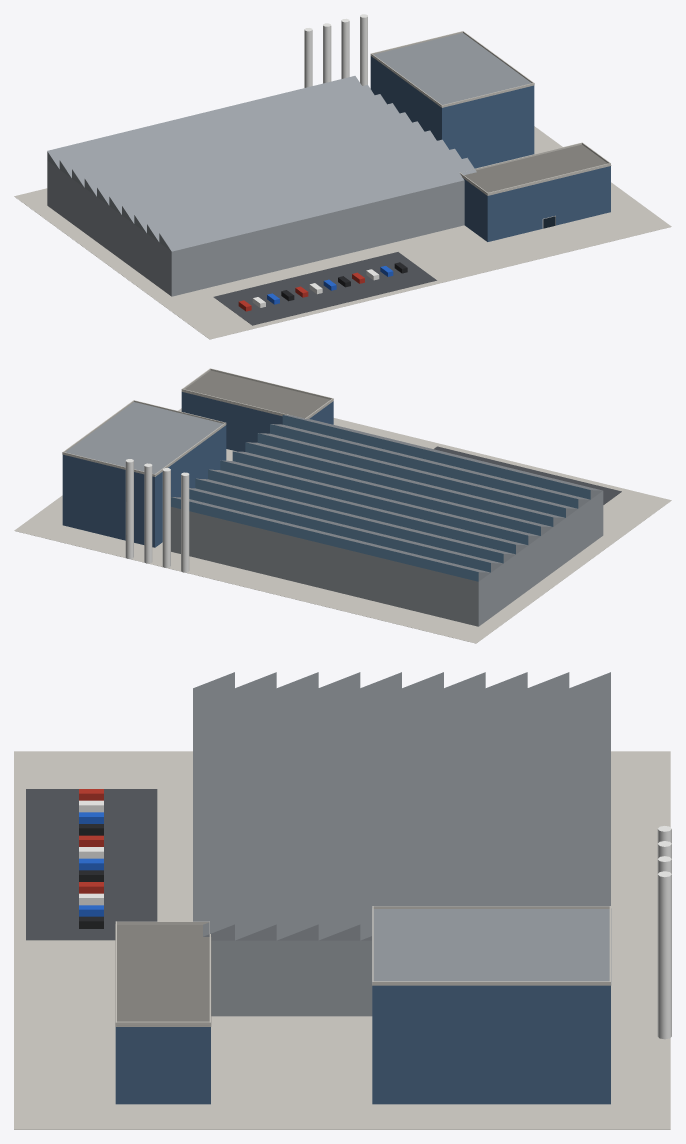
Rendered from usine_automobile.glb.
3 renders of one model, top to bottom at view 1: azimuth 30°, elevation 25°; view 2: azimuth 150°, elevation 25°; view 3: azimuth 270°, elevation 25°, orthographic. The views are drawn at different scales.
Parts seen in each view (by area): view 1: usine_automobile; view 2: usine_automobile; view 3: usine_automobile.
Part boxes in pixels (bbox=[...]): usine_automobile: bbox=[14, 14, 671, 339]; usine_automobile: bbox=[14, 368, 671, 643]; usine_automobile: bbox=[14, 672, 671, 1129].
Size of the model in its own units: 150 by 30 by 110.
1 material, 1 textured.
